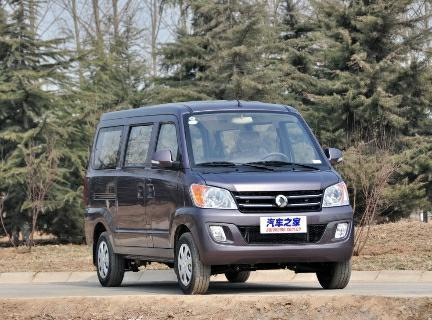car: (73, 98, 362, 296)
